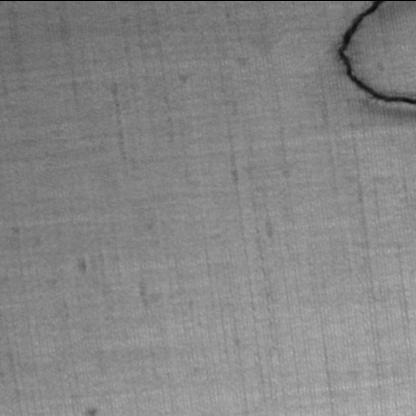objects: (328, 1, 416, 111)
